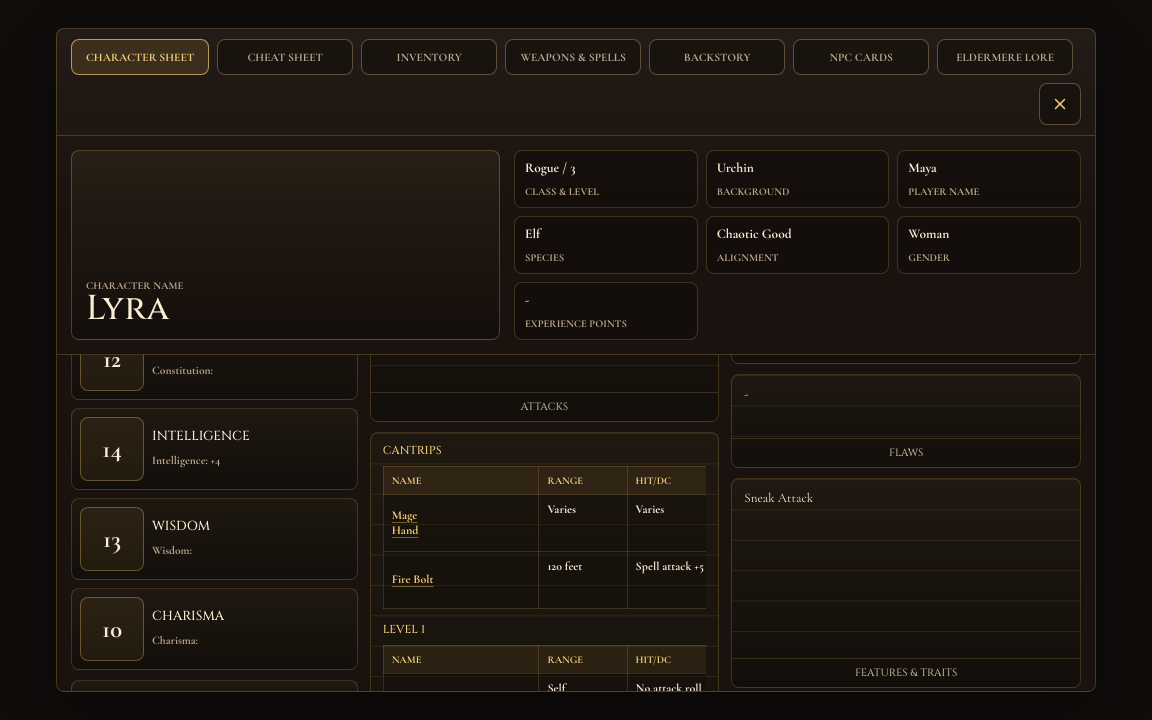
Scenario: CharacterSheetOverlay › renders parsed character fields, sections, tables, and closes from the header
The width and height of the screenshot is (1152, 720).
Later steps or results of the test are not shown.
(page scrolled)
Expected: the heading "Lyra" is shown, [86,285,169,332]
Expected: the text "Rogue / 3" is shown, [525,160,576,176]
Step 1. Click the button "Mage Hand" → click(413, 523), box [392,502,434,544]
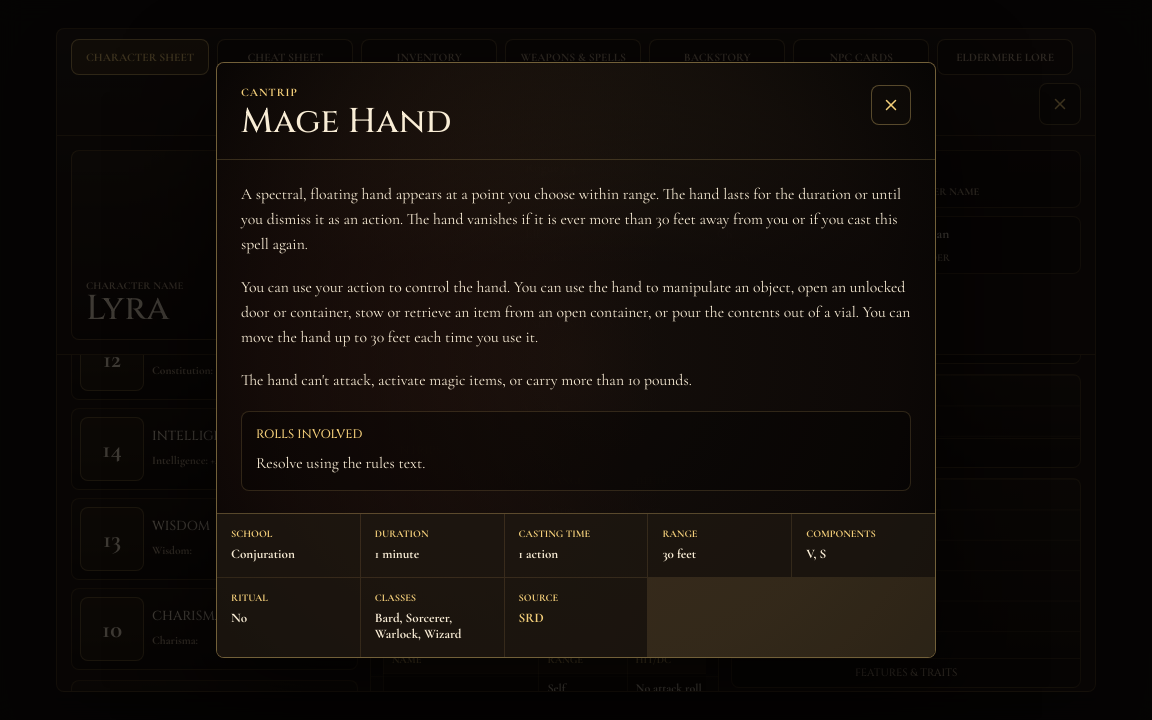
Expected: the text "Cantrip" is shown, [241,86,298,100]
Expected: the heading "Rolls Involved" is shown, [256,426,362,443]
Expected: the text "Range" is shown, [662,528,698,540]
